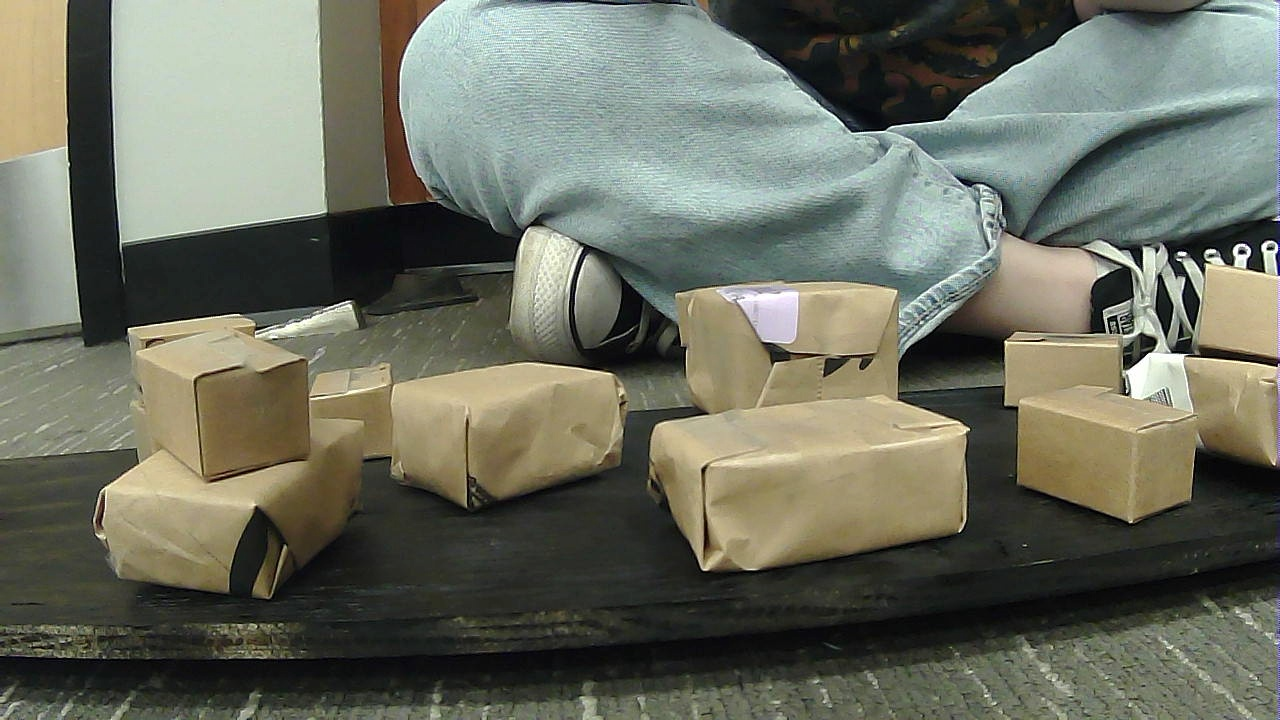package: (645, 414, 965, 563), (102, 423, 361, 597), (394, 357, 621, 509), (654, 282, 922, 410), (1003, 388, 1197, 533), (129, 329, 306, 482), (133, 307, 256, 422), (1174, 351, 1277, 468), (988, 327, 1129, 400), (1173, 260, 1274, 360), (311, 371, 408, 457)
stacked: (103, 336, 354, 594), (1174, 255, 1275, 471)
